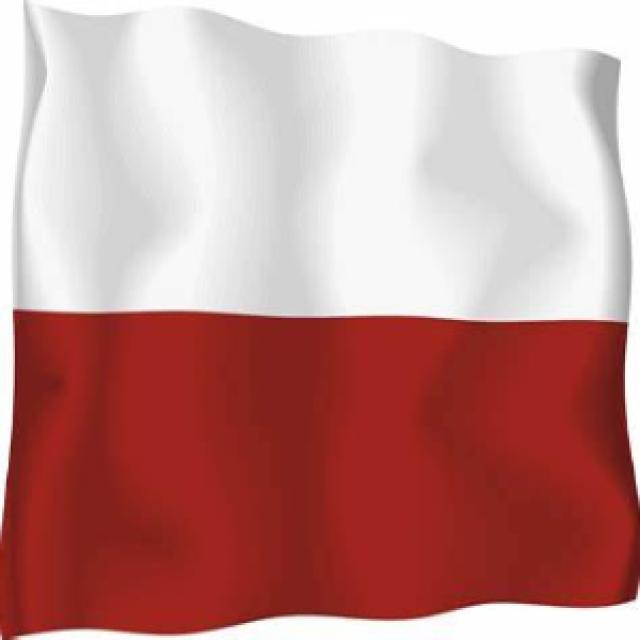poland: (13, 5, 640, 640)
